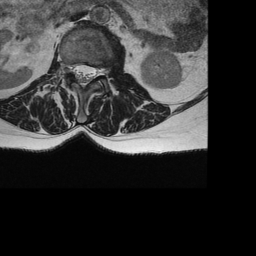CCS_normal: (80, 58, 88, 95)
LFS_normal: (96, 58, 105, 81)
LLS_normal: (88, 57, 96, 87)
RFS_normal: (63, 55, 72, 81)
RLS_normal: (72, 56, 80, 87)
